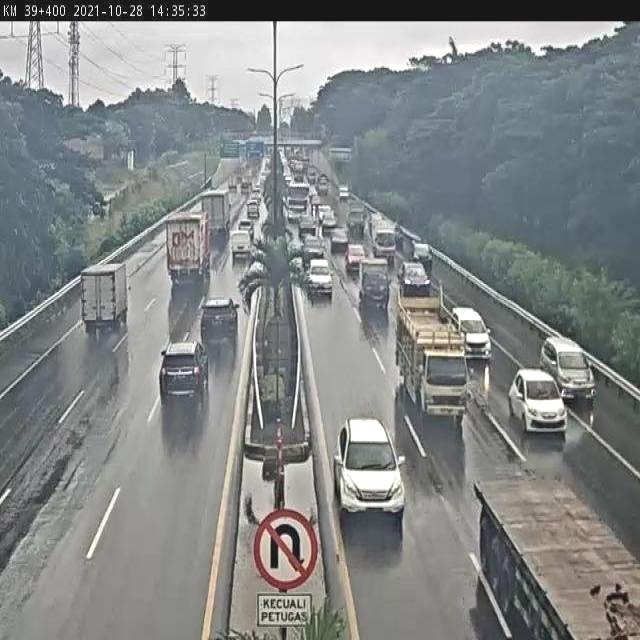Car: (335, 414, 408, 522), (507, 368, 568, 438), (540, 336, 596, 402), (158, 340, 209, 404), (452, 306, 492, 361), (200, 296, 239, 348), (399, 260, 431, 300), (306, 258, 333, 300), (411, 242, 433, 273), (345, 243, 366, 274), (302, 235, 326, 262), (328, 227, 349, 254), (322, 210, 338, 236), (299, 214, 317, 236), (238, 219, 254, 240), (316, 204, 332, 224), (247, 198, 260, 220), (339, 184, 349, 200)
Truck: (395, 283, 475, 426), (79, 262, 131, 334), (164, 210, 213, 285), (358, 258, 393, 310), (200, 190, 232, 236), (372, 218, 398, 267), (284, 181, 312, 224), (346, 200, 367, 238), (314, 172, 329, 196), (228, 174, 238, 192)
Van: (230, 228, 252, 261)
